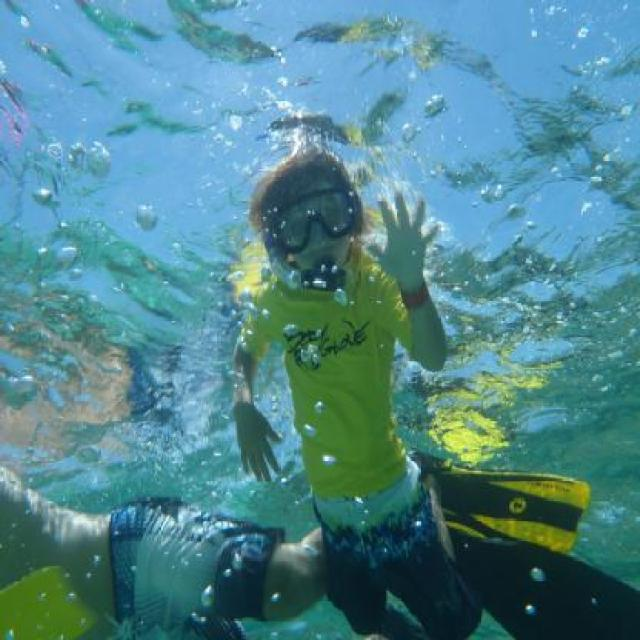Person: (228, 146, 534, 623), (0, 463, 448, 639)
